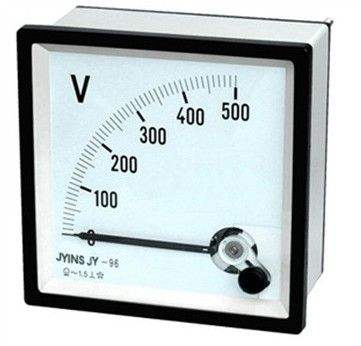pointer: (30, 42, 290, 318)
